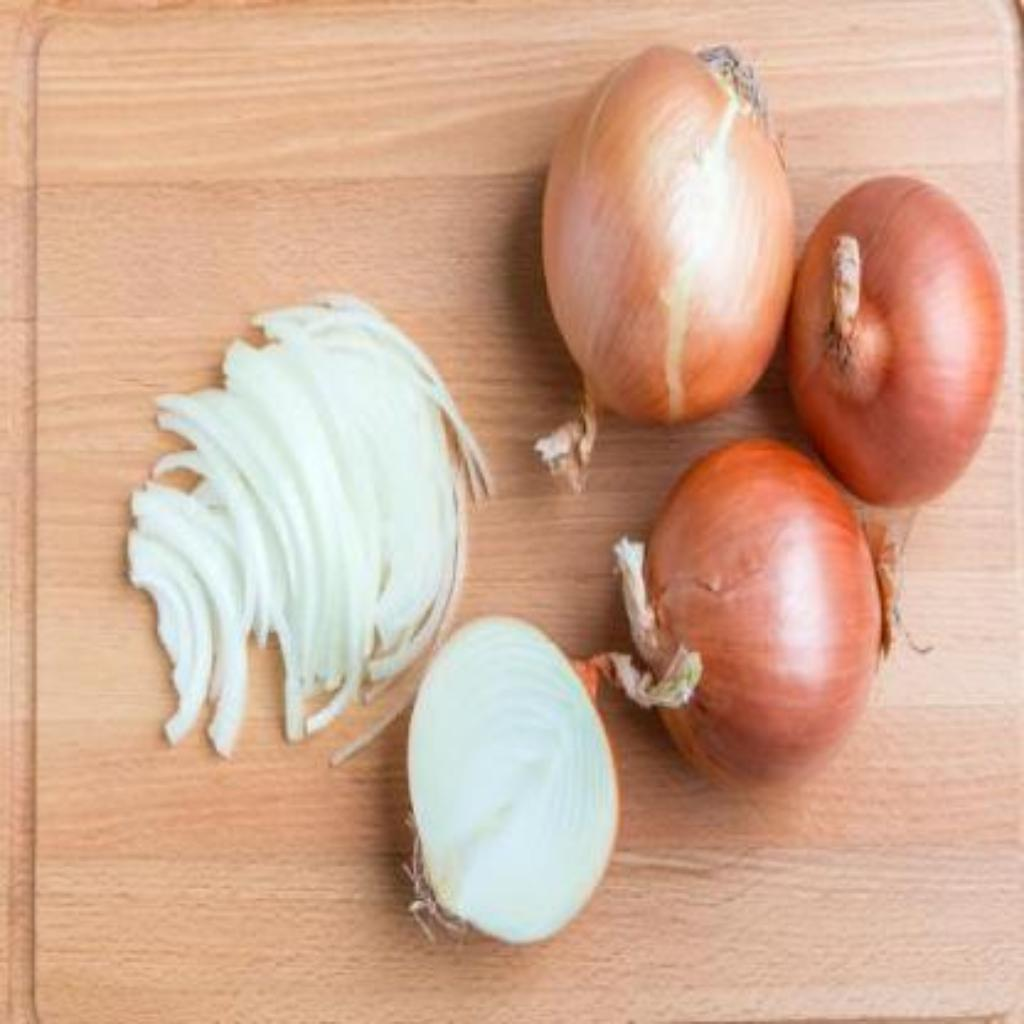Onion: (537, 44, 795, 491), (608, 441, 884, 784), (790, 175, 1009, 506)
